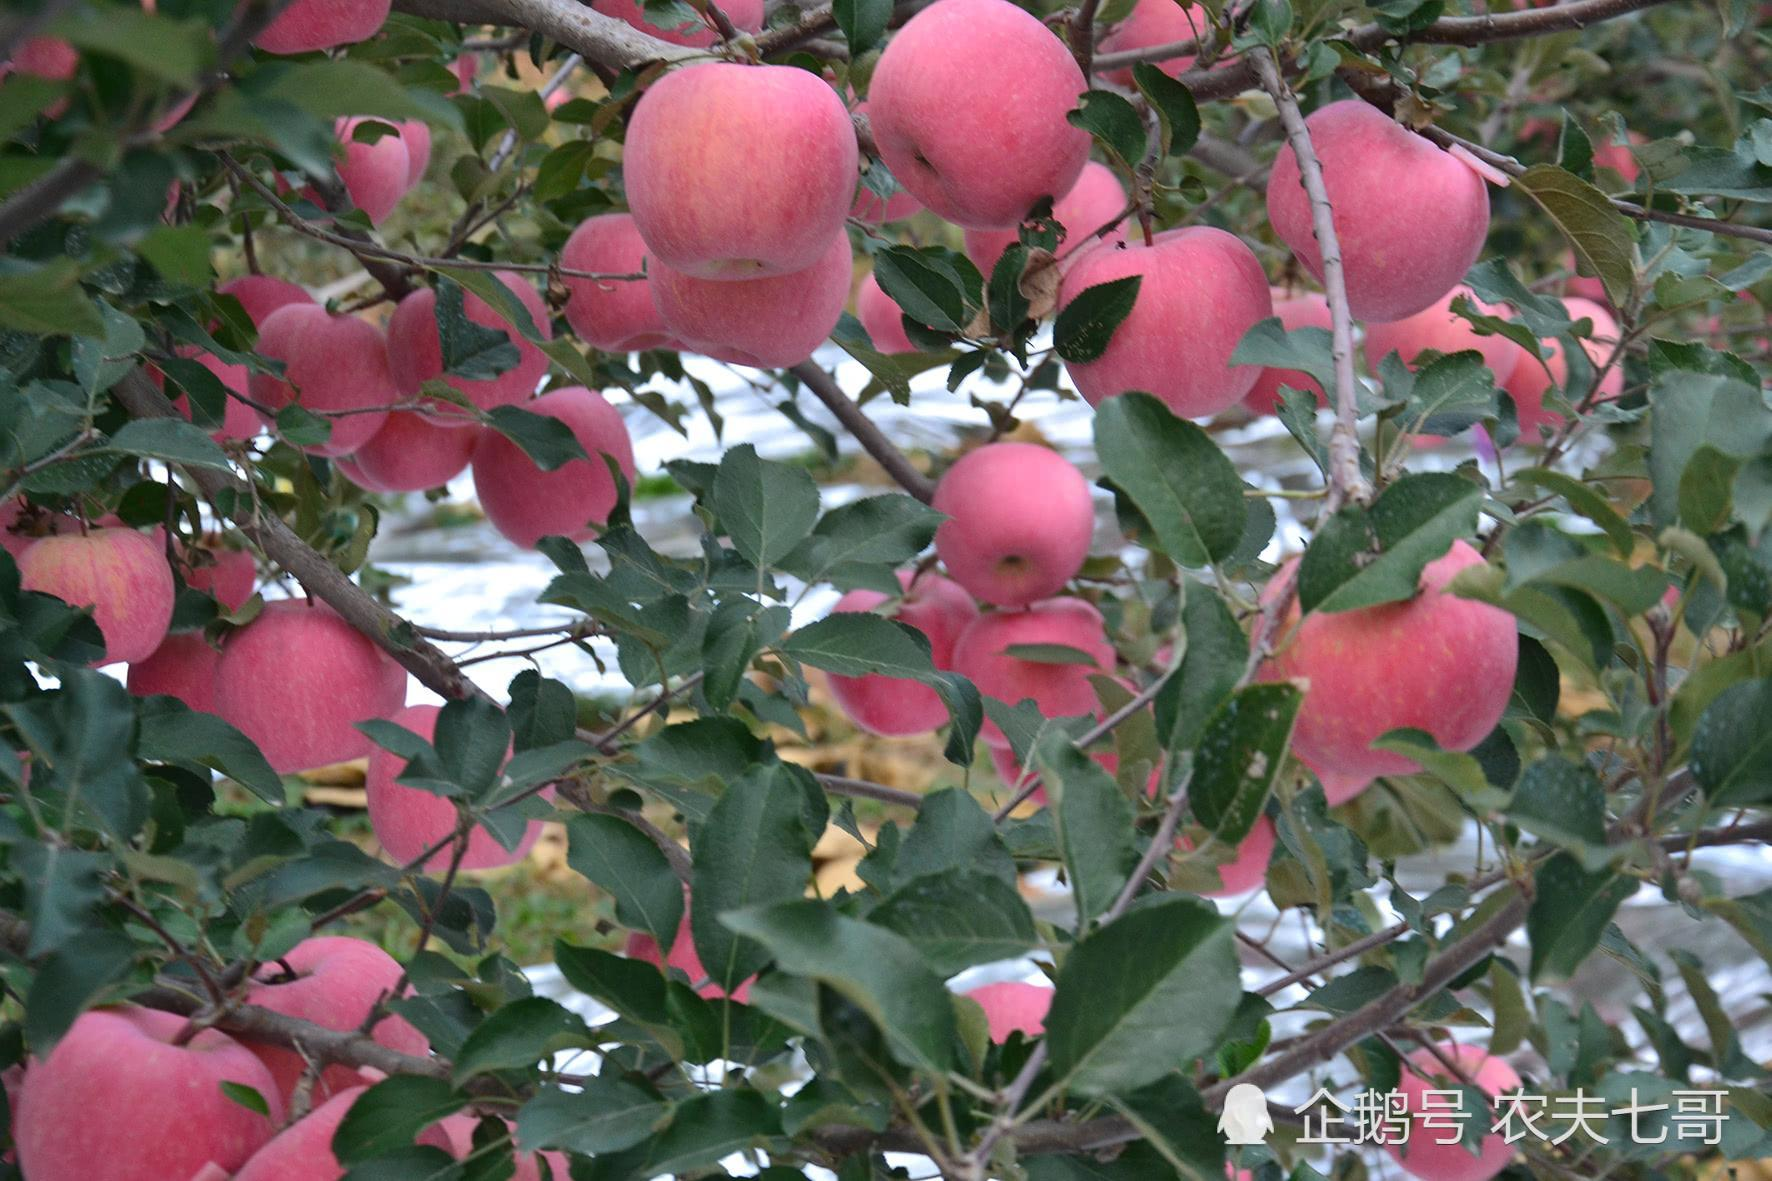apple: (1256, 544, 1516, 784), (1267, 92, 1497, 327), (621, 59, 859, 285), (867, 1, 1090, 233), (1050, 215, 1279, 427), (13, 1000, 286, 1174), (149, 597, 406, 782), (246, 935, 432, 1110), (646, 243, 854, 377), (474, 385, 636, 556), (935, 446, 1091, 609), (826, 573, 976, 741), (954, 597, 1121, 735), (18, 526, 175, 671), (250, 302, 394, 459), (553, 211, 673, 359), (331, 113, 422, 221)
